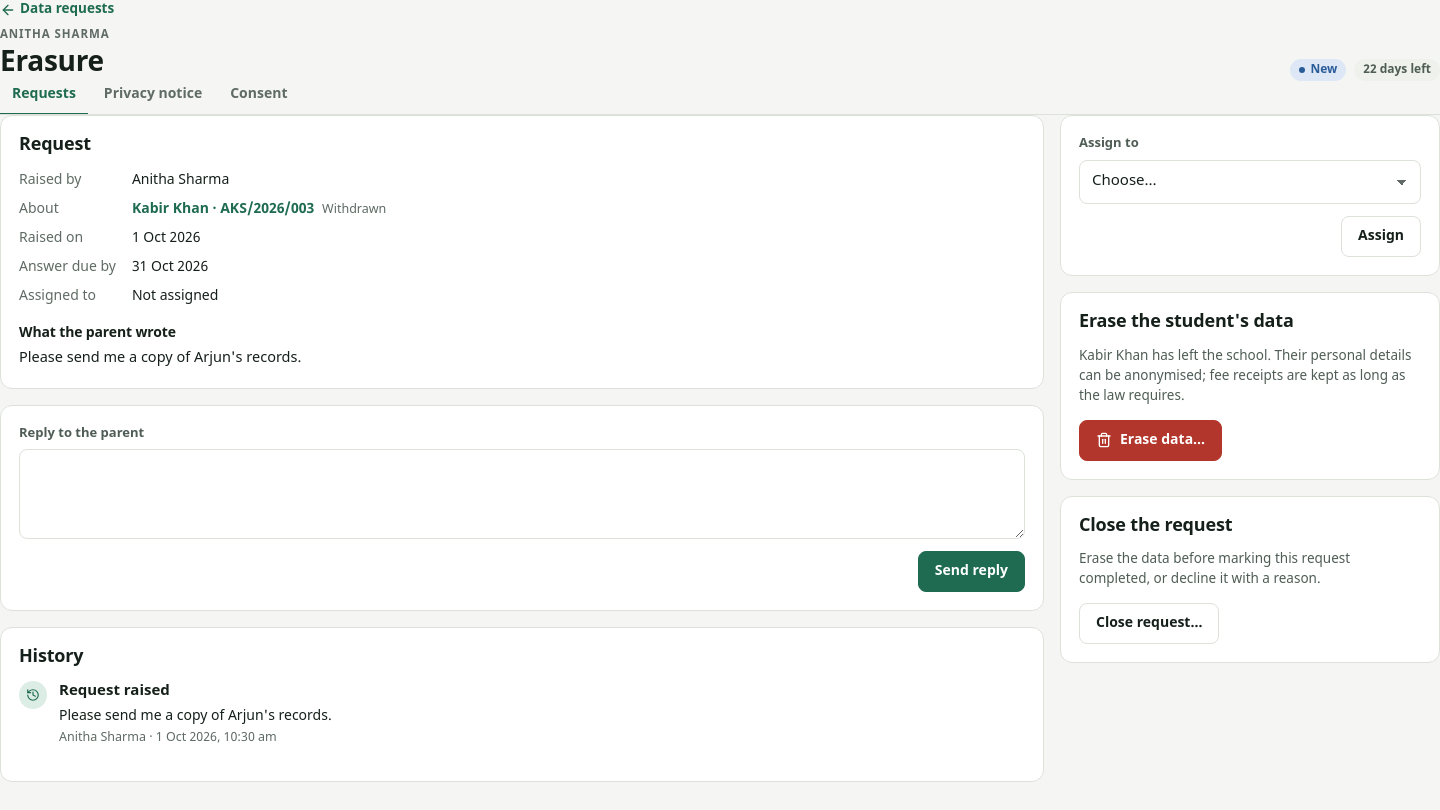
RequestDetailView › erases a left student's data only after the admission number is typed
Click the button "Erase data…" at (1151, 440), box [1079,420,1222,461]
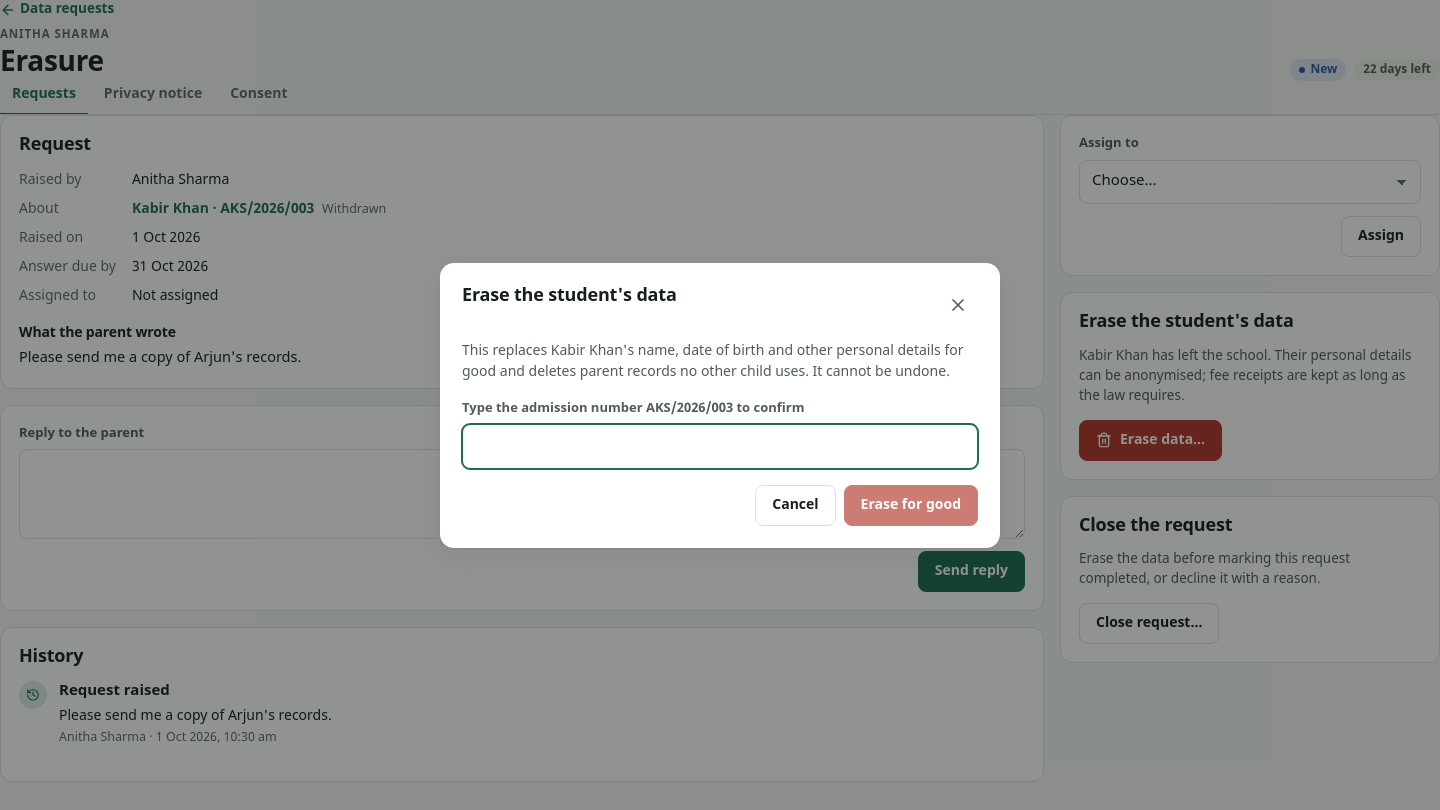
Type "AKS/2026/00" into the field labelled "Type the admission number AKS/2026/003 to confirm" at (720, 446), box [462,424,978,468]
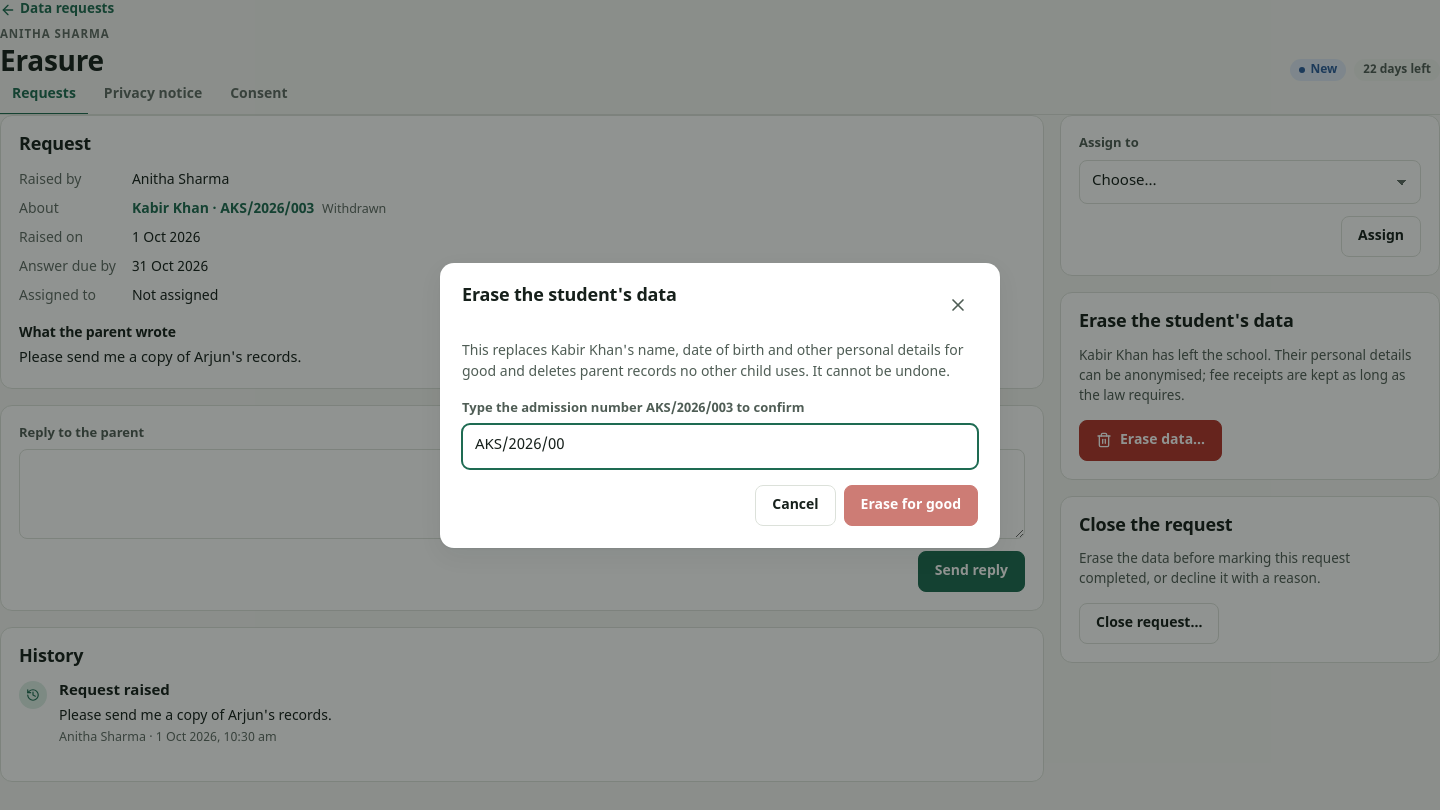
Expected: the button "Erase for good" is disabled, [844,484,978,526]
Type "3" into the field labelled "Type the admission number AKS/2026/003 to confirm" at (720, 446), box [462,424,978,468]
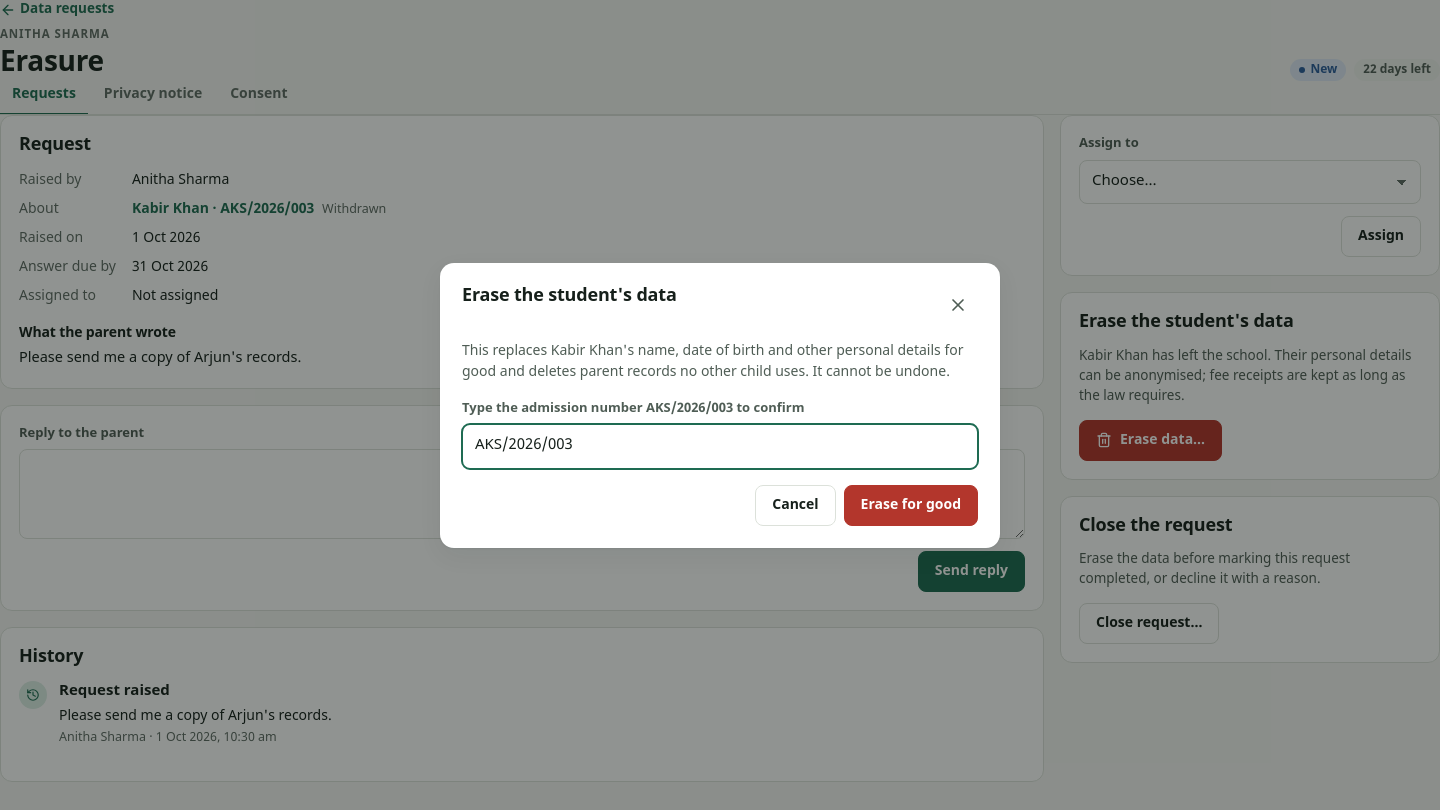
Expected: the button "Erase for good" is enabled
Click the button "Erase for good" at (911, 505), box [844,484,978,526]
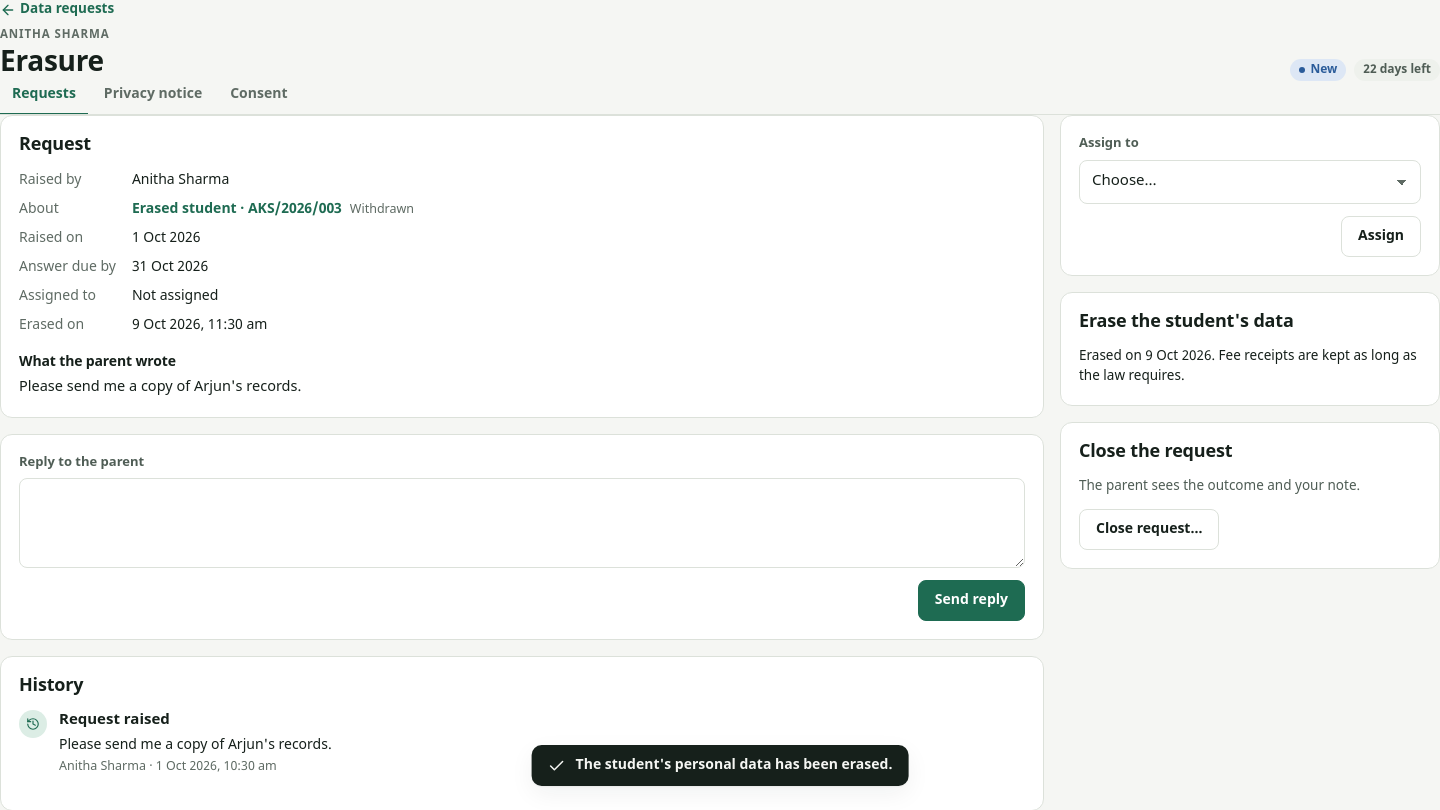
Expected: the text "Erased on" is shown, [1079,348,1417,386]
